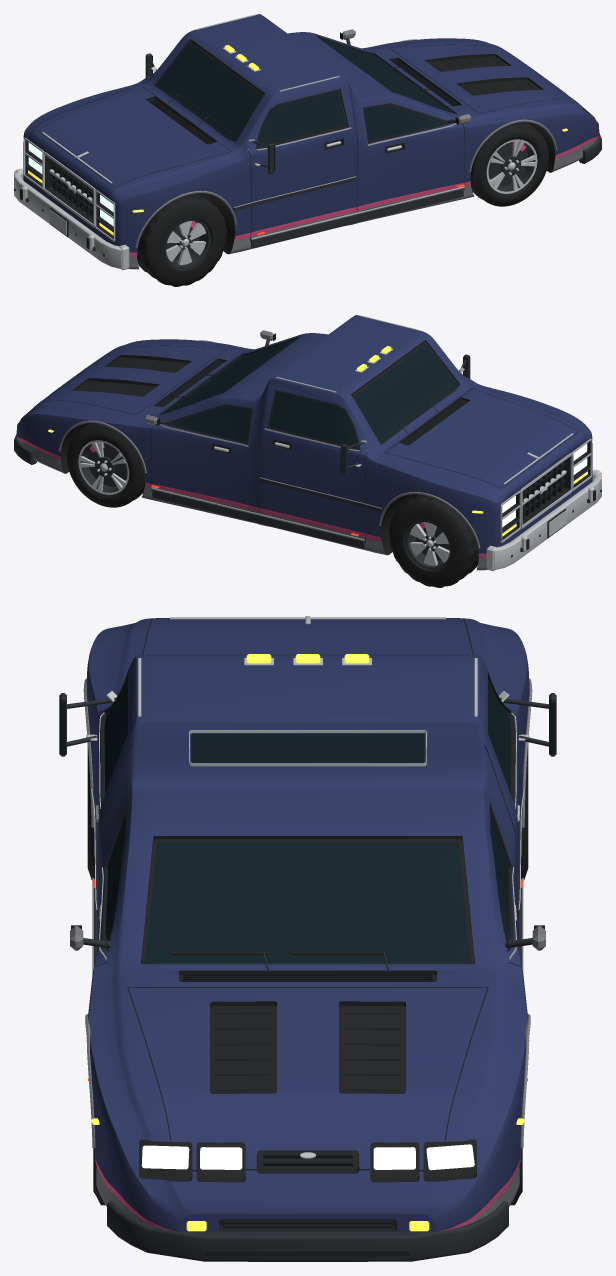
File: nightshift_blueprint.glb
The picture shows the model from 3 angles, top to bottom: view 1: azimuth 30°, elevation 25°; view 2: azimuth 150°, elevation 25°; view 3: azimuth 270°, elevation 25°; orthographic projection. The views are drawn at different scales.
Visible parts, largest first — view 1: Body_NightshiftShell.001, Detail_BrushedMetal, Glass_TruckWindshield.001, Wheel_Truck_Tire_-1.001, Detail_Gunmetal, Wheel_Coupe_Tire_-1.001, Glass_TruckSide_R.001, Detail_Grille, Glass_CoupeWindshield.001, Glass_CoupeSide_R.001, Wheel_Coupe_Hub_-1.001, Detail_Secondary (+4 smaller); view 2: Body_NightshiftShell.001, Detail_BrushedMetal, Glass_TruckWindshield.001, Wheel_Truck_Tire_+1.001, Detail_Gunmetal, Wheel_Coupe_Tire_+1.001, Glass_TruckSide_L.001, Detail_Grille, Glass_CoupeWindshield.001, Glass_CoupeSide_L.001, Wheel_Coupe_Hub_+1.001, Detail_Secondary (+4 smaller); view 3: Body_NightshiftShell.001, Glass_CoupeWindshield.001, Detail_Gunmetal, Glass_CabRear.001, Detail_Grille, Detail_BrushedMetal, Detail_Headlight, Detail_Secondary, Detail_Rubber, Glass_TruckSide_L.001, Glass_TruckSide_R.001, Detail_Amber (+2 smaller).
Part boxes in pixels (<box>): Body_NightshiftShell.001: <box>23,14,599,269</box>; Detail_BrushedMetal: <box>14,14,464,270</box>; Glass_TruckWindshield.001: <box>157,43,262,141</box>; Wheel_Truck_Tire_-1.001: <box>137,193,227,286</box>; Detail_Gunmetal: <box>14,37,601,256</box>; Wheel_Coupe_Tire_-1.001: <box>470,122,548,206</box>; Glass_TruckSide_R.001: <box>257,91,345,146</box>; Detail_Grille: <box>49,57,535,218</box>; Glass_CoupeWindshield.001: <box>319,38,453,113</box>; Glass_CoupeSide_R.001: <box>364,104,448,140</box>; Wheel_Coupe_Hub_-1.001: <box>488,141,528,185</box>; Detail_Secondary: <box>135,29,557,247</box>; Body_NightshiftShell.001: <box>16,315,592,570</box>; Detail_BrushedMetal: <box>151,315,601,571</box>; Glass_TruckWindshield.001: <box>353,344,458,442</box>; Wheel_Truck_Tire_+1.001: <box>388,494,478,587</box>; Detail_Gunmetal: <box>14,338,601,557</box>; Wheel_Coupe_Tire_+1.001: <box>67,423,145,507</box>; Glass_TruckSide_L.001: <box>270,392,358,447</box>; Detail_Grille: <box>80,358,566,519</box>; Glass_CoupeWindshield.001: <box>162,339,296,414</box>; Glass_CoupeSide_L.001: <box>167,405,251,441</box>; Wheel_Coupe_Hub_+1.001: <box>87,442,127,486</box>; Detail_Secondary: <box>58,330,480,548</box>; Body_NightshiftShell.001: <box>86,618,529,1231</box>; Glass_CoupeWindshield.001: <box>145,841,470,963</box>; Detail_Gunmetal: <box>59,693,556,1261</box>; Glass_CabRear.001: <box>191,733,424,762</box>; Detail_Grille: <box>183,973,432,1227</box>; Detail_BrushedMetal: <box>86,616,529,1158</box>; Detail_Headlight: <box>141,1144,474,1170</box>; Detail_Secondary: <box>70,678,545,1147</box>; Detail_Rubber: <box>170,952,410,1255</box>; Glass_TruckSide_L.001: <box>488,677,510,792</box>; Glass_TruckSide_R.001: <box>105,677,127,792</box>; Detail_Amber: <box>91,654,524,1231</box>.
Bounding box in the file's own units: 5.37 × 1.64 × 2.23.
